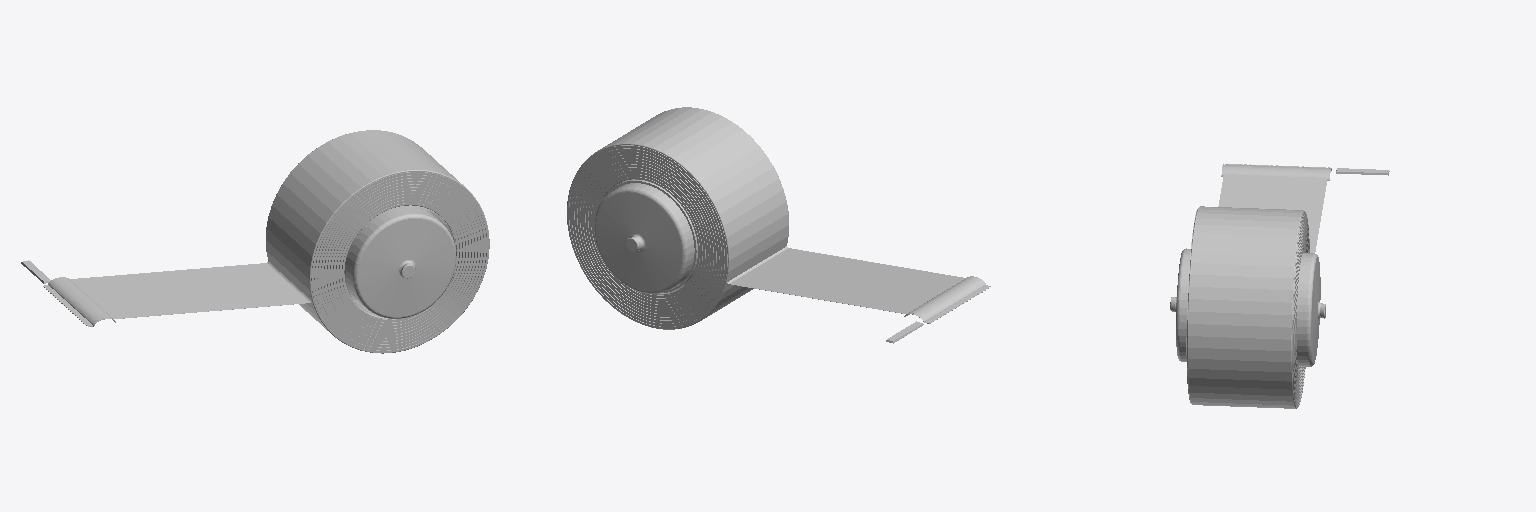
File: jiaodai.obj
The picture shows the model from 3 angles: view 1: azimuth 30°, elevation 25°; view 2: azimuth 150°, elevation 25°; view 3: azimuth 270°, elevation 25°; orthographic projection.
Visible parts, largest first — view 1: file.001; view 2: file.001; view 3: file.001.
Part boxes in pixels (x1,y1,x2,y2): file.001: (21, 130, 489, 353); file.001: (567, 107, 990, 343); file.001: (1170, 164, 1389, 408).
Bounding box in the file's own units: 5.83 × 2.56 × 2.83.